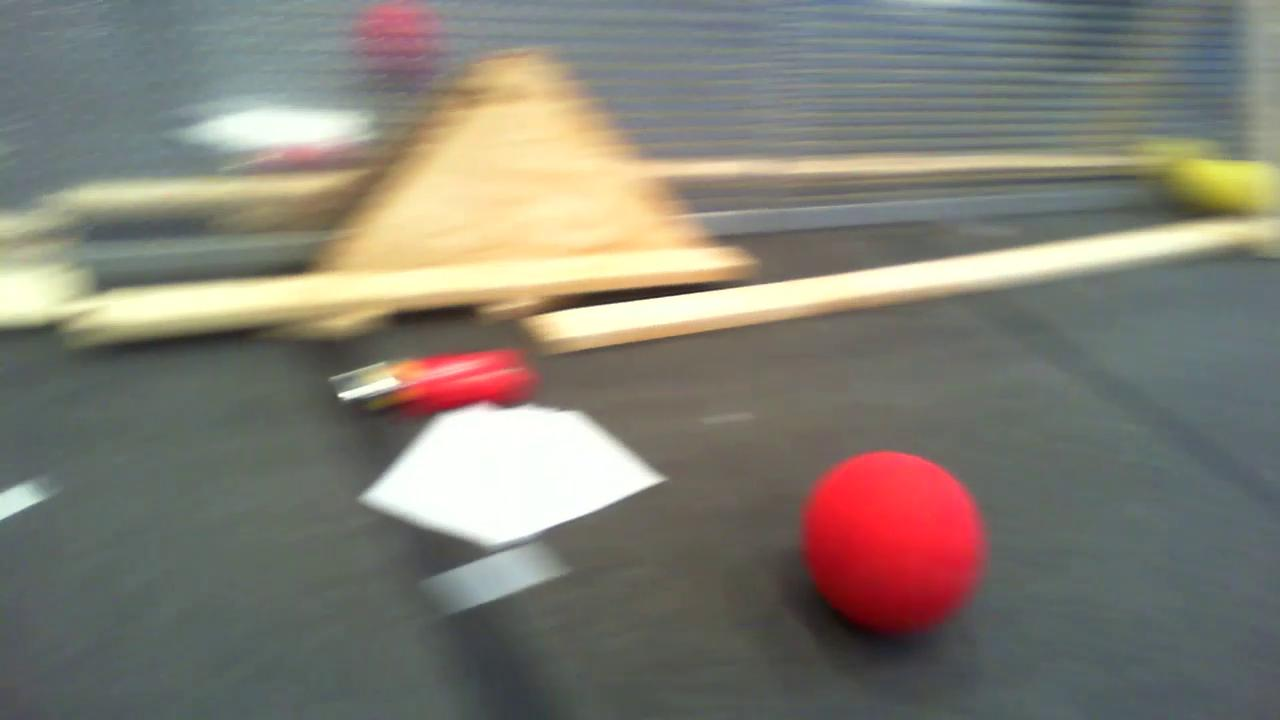Red_Ball: (794, 433, 993, 649)
